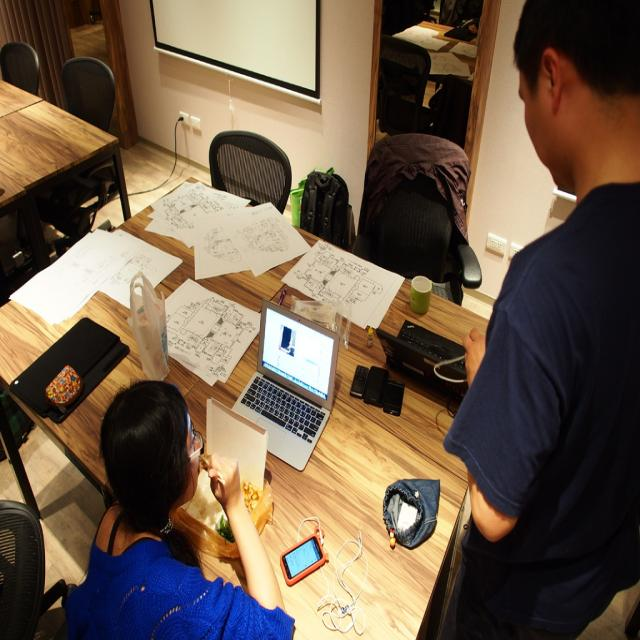chair: (355, 131, 481, 303), (56, 56, 131, 232), (0, 499, 70, 637), (208, 128, 293, 213), (0, 40, 40, 96)
desk: (15, 182, 491, 612)
laptop: (233, 298, 341, 471)
person: (440, 0, 639, 634), (66, 380, 296, 634)
